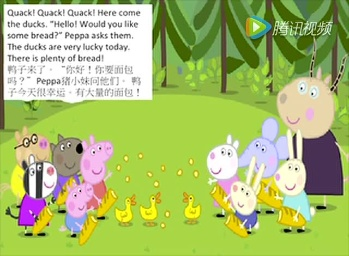Peppa: (79, 133, 115, 210)
